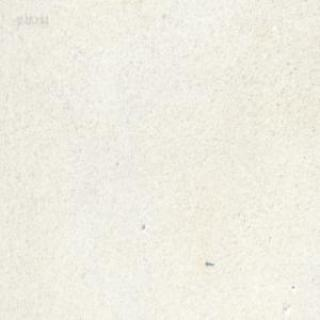Nailtrack_idkeyframe: (204, 259, 213, 266)
